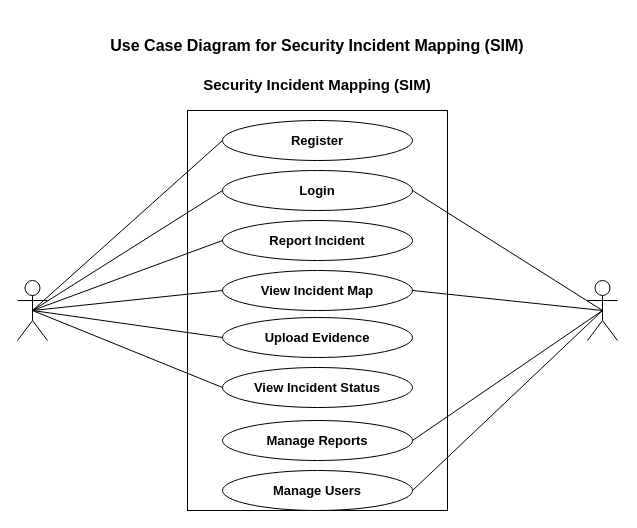
This 637x528 diagram has some shape labels left out. The centre of each missing label's shape, as x and y in pixels:
"Admin" belongs at point 602,310.
"User" belongs at point 32,310.
